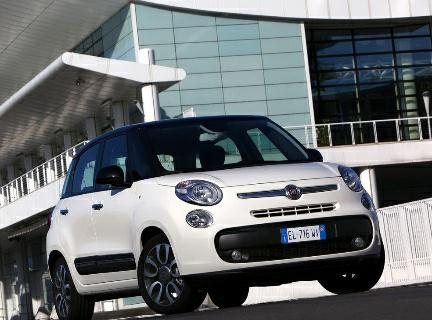菲亚特-500X: (36, 108, 397, 315)
